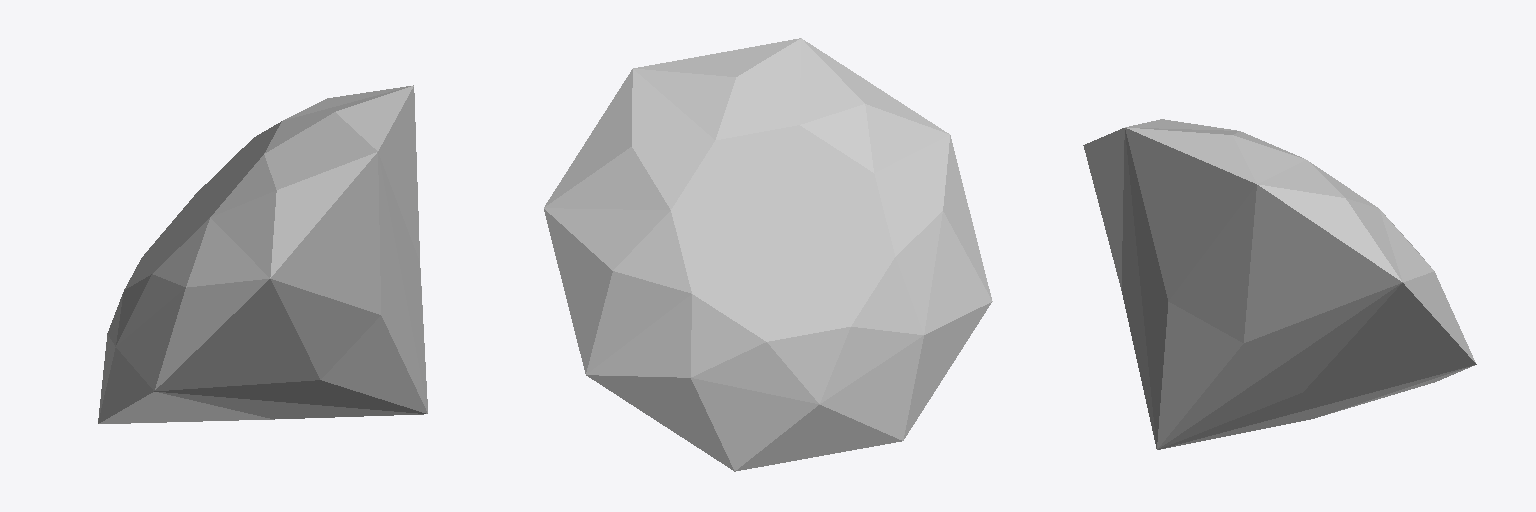
The model's file is diamond.obj.
3 renders of one model, left to right at view 1: azimuth 30°, elevation 25°; view 2: azimuth 150°, elevation 25°; view 3: azimuth 270°, elevation 25°, orthographic.
Parts seen in each view (by area): view 1: 0; view 2: 0; view 3: 0.
Boxes of the visible parts, x1=… form: 0: x1=98, y1=85, x2=427, y2=423; 0: x1=544, y1=38, x2=992, y2=471; 0: x1=1083, y1=119, x2=1476, y2=449.
Size of the model in its own units: 9.4 by 8.27 by 9.82.